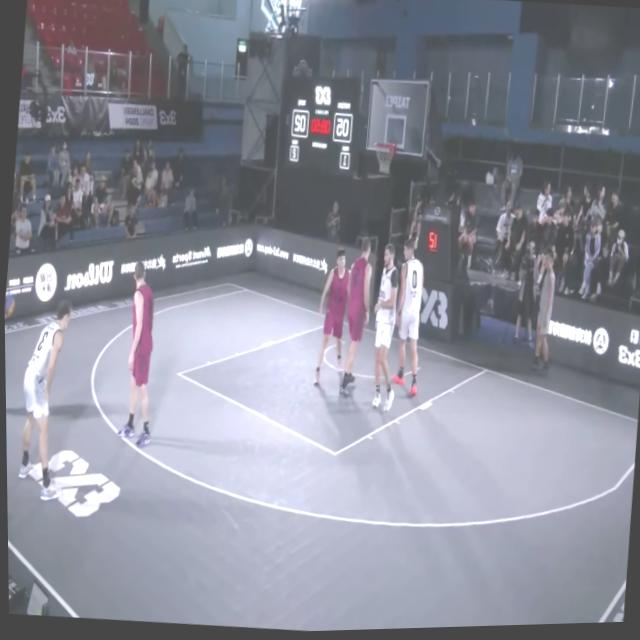ball: (3, 292, 15, 316)
hoop: (371, 142, 396, 177)
player: (12, 297, 76, 500), (114, 260, 163, 449), (384, 238, 429, 407), (334, 237, 376, 402), (363, 245, 403, 413), (308, 247, 353, 391)
